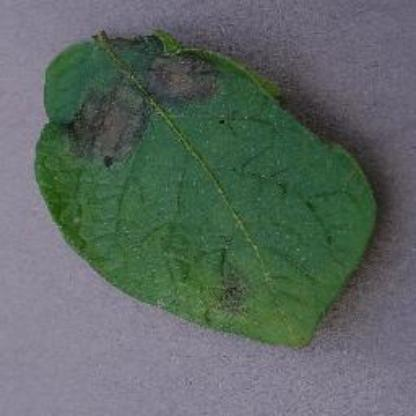Late-Blight: (38, 22, 398, 346)
